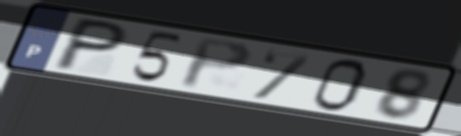0: (309, 58, 372, 113)
5: (130, 28, 187, 82)
7: (251, 45, 316, 102)
8: (372, 67, 434, 123)
P: (47, 15, 133, 73), (177, 35, 255, 92)
